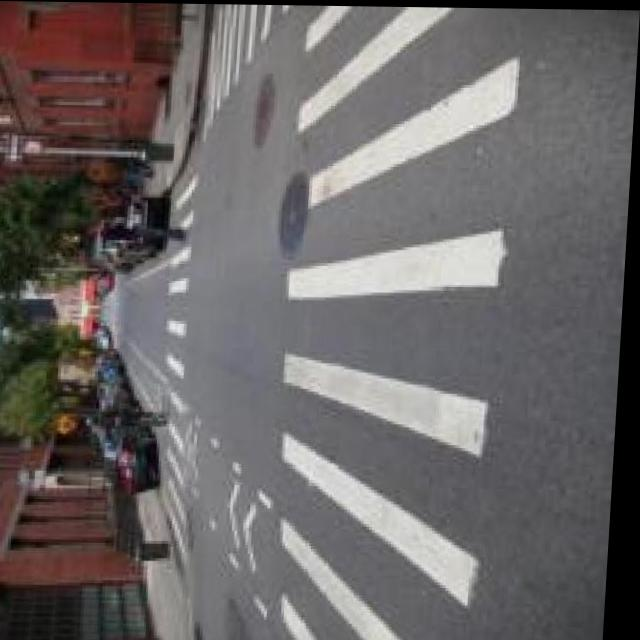zebra: (270, 6, 554, 640), (163, 119, 215, 549), (193, 2, 318, 130), (461, 201, 466, 204)
